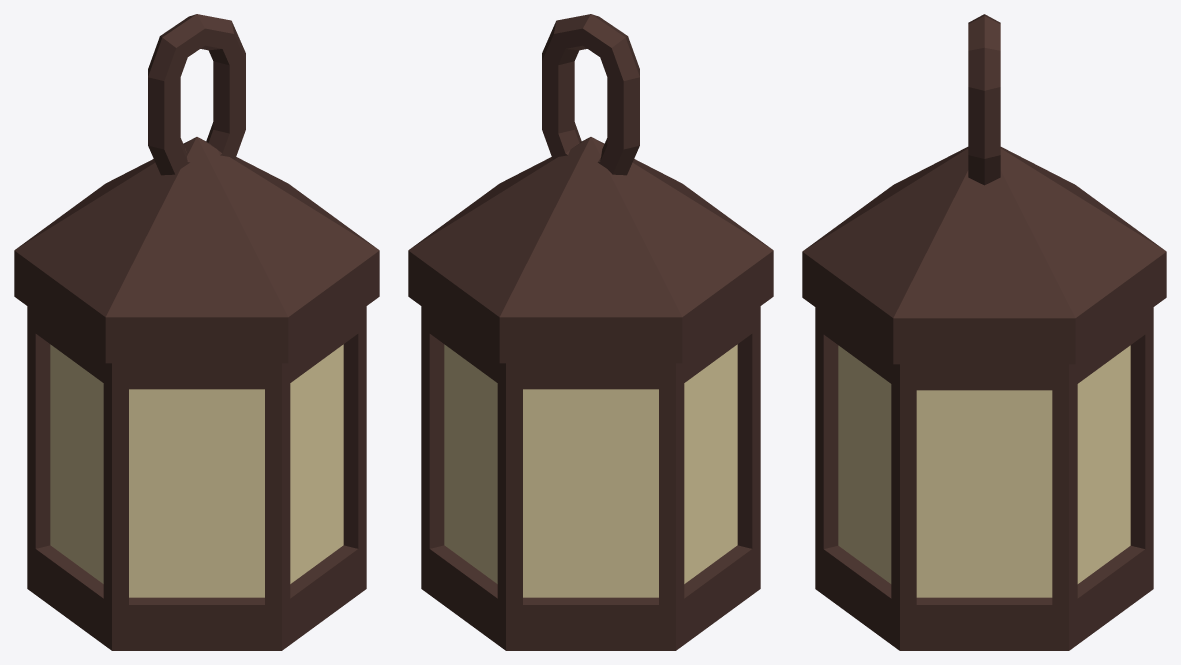
The model's file is Lantern.fbx.
3 renders of one model, left to right at view 1: azimuth 30°, elevation 25°; view 2: azimuth 150°, elevation 25°; view 3: azimuth 270°, elevation 25°, orthographic.
Parts seen in each view (by area): view 1: Lantern; view 2: Lantern; view 3: Lantern.
Boxes of the visible parts, bbox=[...] form: Lantern: bbox=[14, 14, 379, 650]; Lantern: bbox=[408, 14, 773, 650]; Lantern: bbox=[802, 14, 1166, 650].
Bounding box in the file's own units: 83.92 × 168 × 96.9.
Materials: 1 (1 with a texture image).
